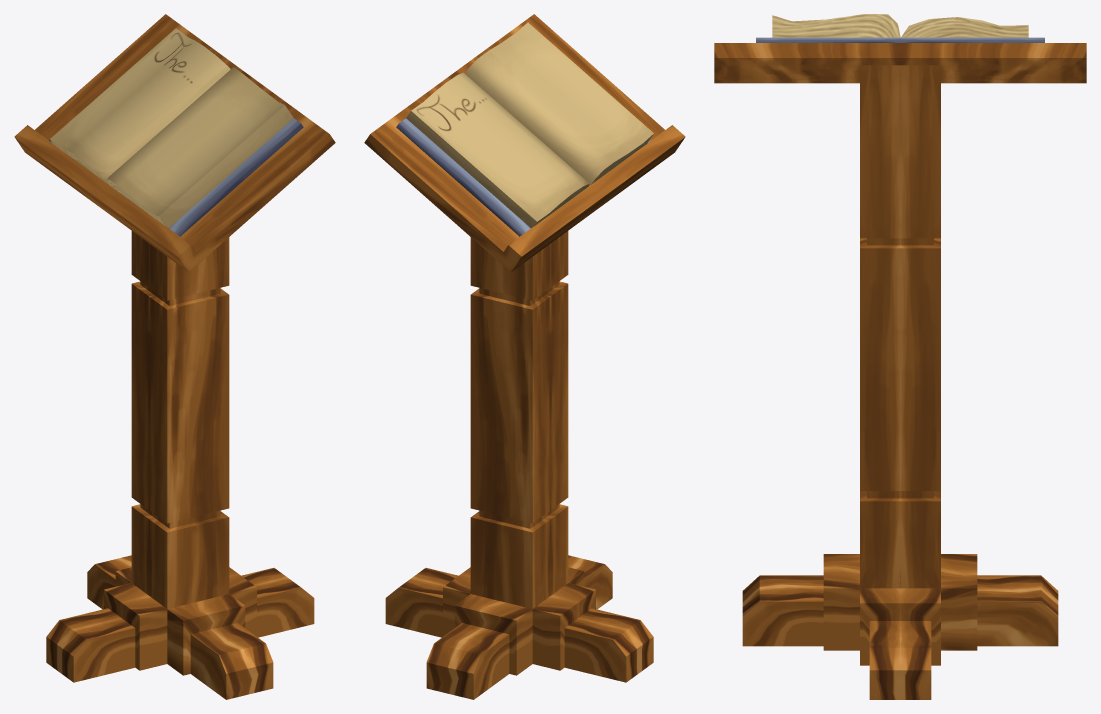
The model's file is obj_bookstand.FBX.
The picture shows the model from 3 angles, left to right: view 1: azimuth 30°, elevation 25°; view 2: azimuth 150°, elevation 25°; view 3: azimuth 270°, elevation 25°; orthographic projection. The views are drawn at different scales.
Parts seen in each view (by area): view 1: obj_bookstand; view 2: obj_bookstand; view 3: obj_bookstand.
Boxes of the visible parts, bbox=[...] form: obj_bookstand: bbox=[14, 14, 335, 699]; obj_bookstand: bbox=[364, 14, 685, 699]; obj_bookstand: bbox=[714, 14, 1086, 699].
Bounding box in the file's own units: 3.57 × 8.07 × 4.22.
